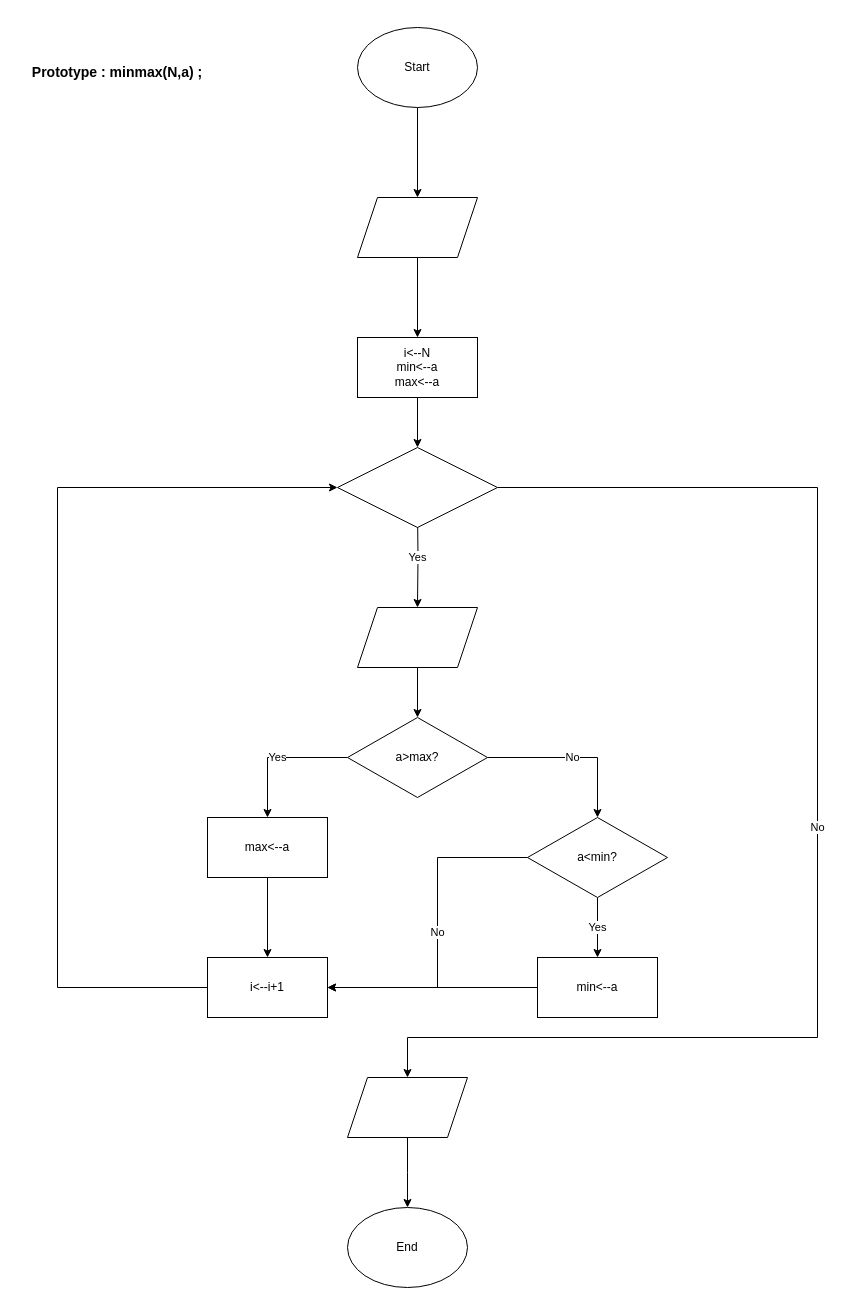
This 843x1305 diagram has some shape labels left out. Here are the shapes that lost their labels. From the top down, the centre of each, then its label:
(x=417, y=227): Input N,a
(x=417, y=487): I<N?
(x=417, y=637): Input a
(x=407, y=1107): Display i
